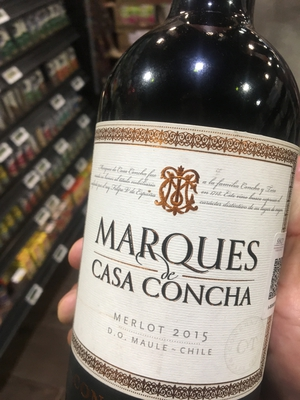marques de casa concha merlot: (72, 22, 288, 400)
